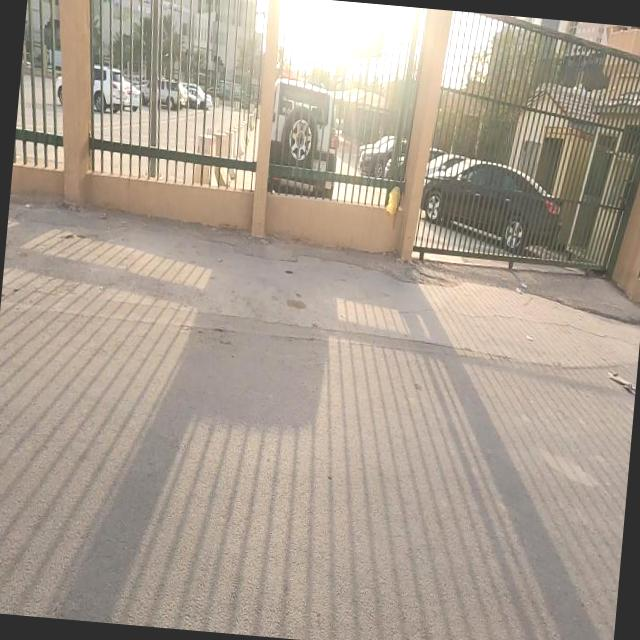debris: (584, 332, 640, 422), (487, 260, 549, 314), (502, 316, 548, 362)
